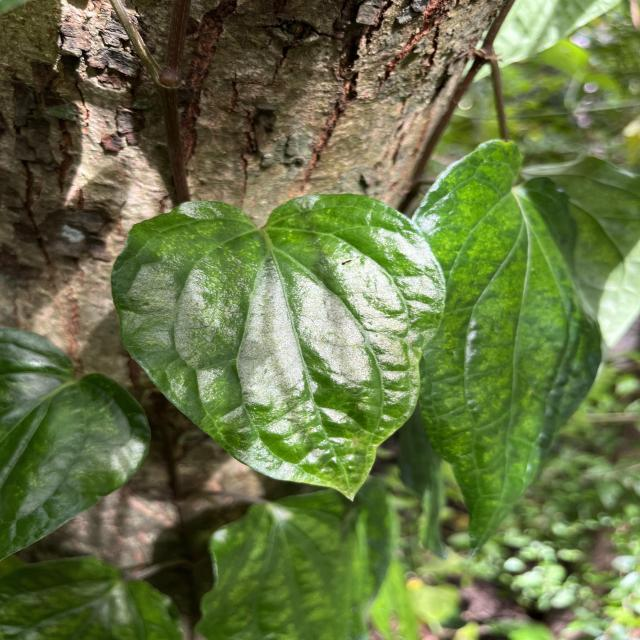Piper betle: (107, 190, 449, 506)
